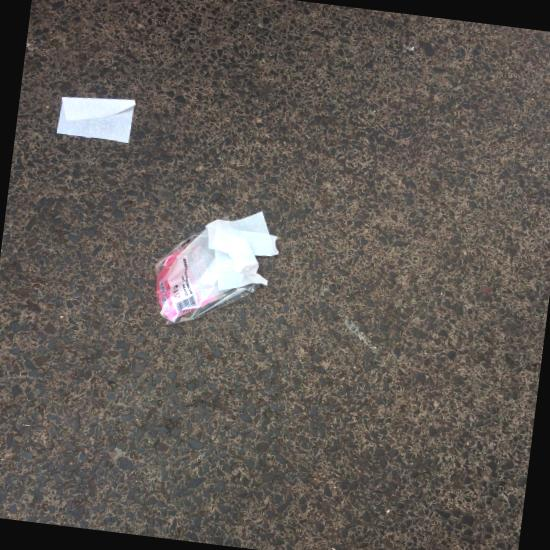Plastic film: (155, 228, 260, 325)
Tissues: (205, 211, 279, 286), (56, 97, 136, 143)
